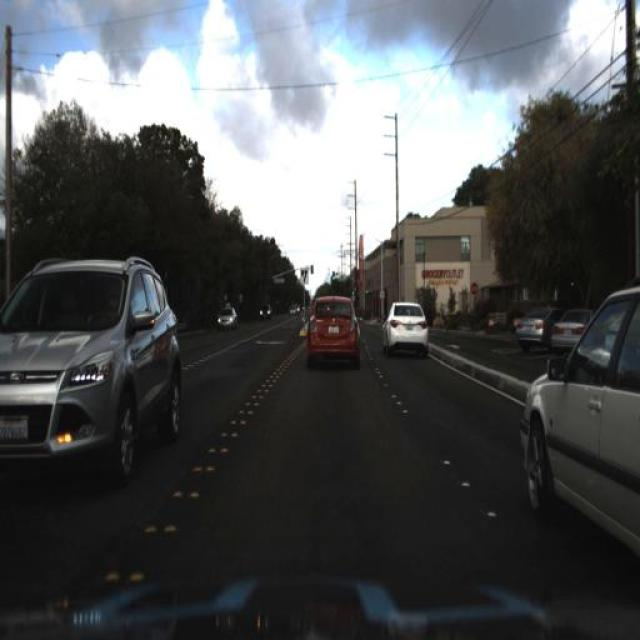car: (1, 249, 197, 530), (516, 272, 640, 583), (294, 286, 368, 378), (374, 287, 441, 362), (516, 300, 590, 352), (214, 299, 240, 331), (256, 294, 275, 324)
